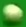white: (0, 0, 26, 27)
